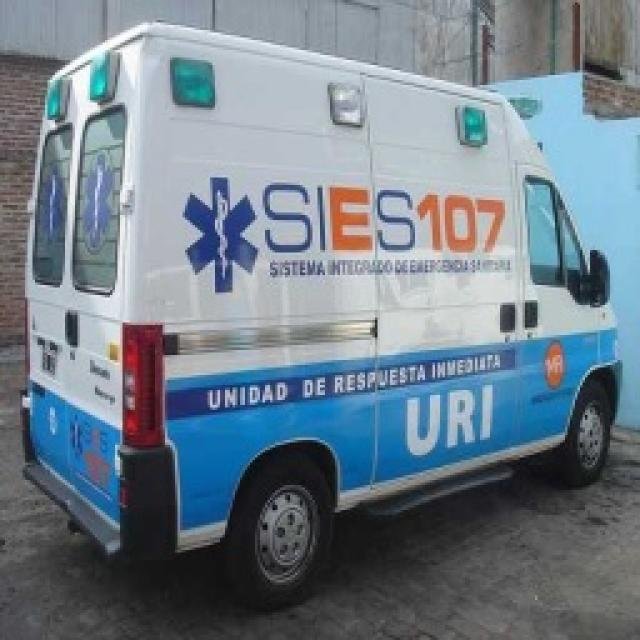emergency-vehicle: (21, 20, 627, 609)
